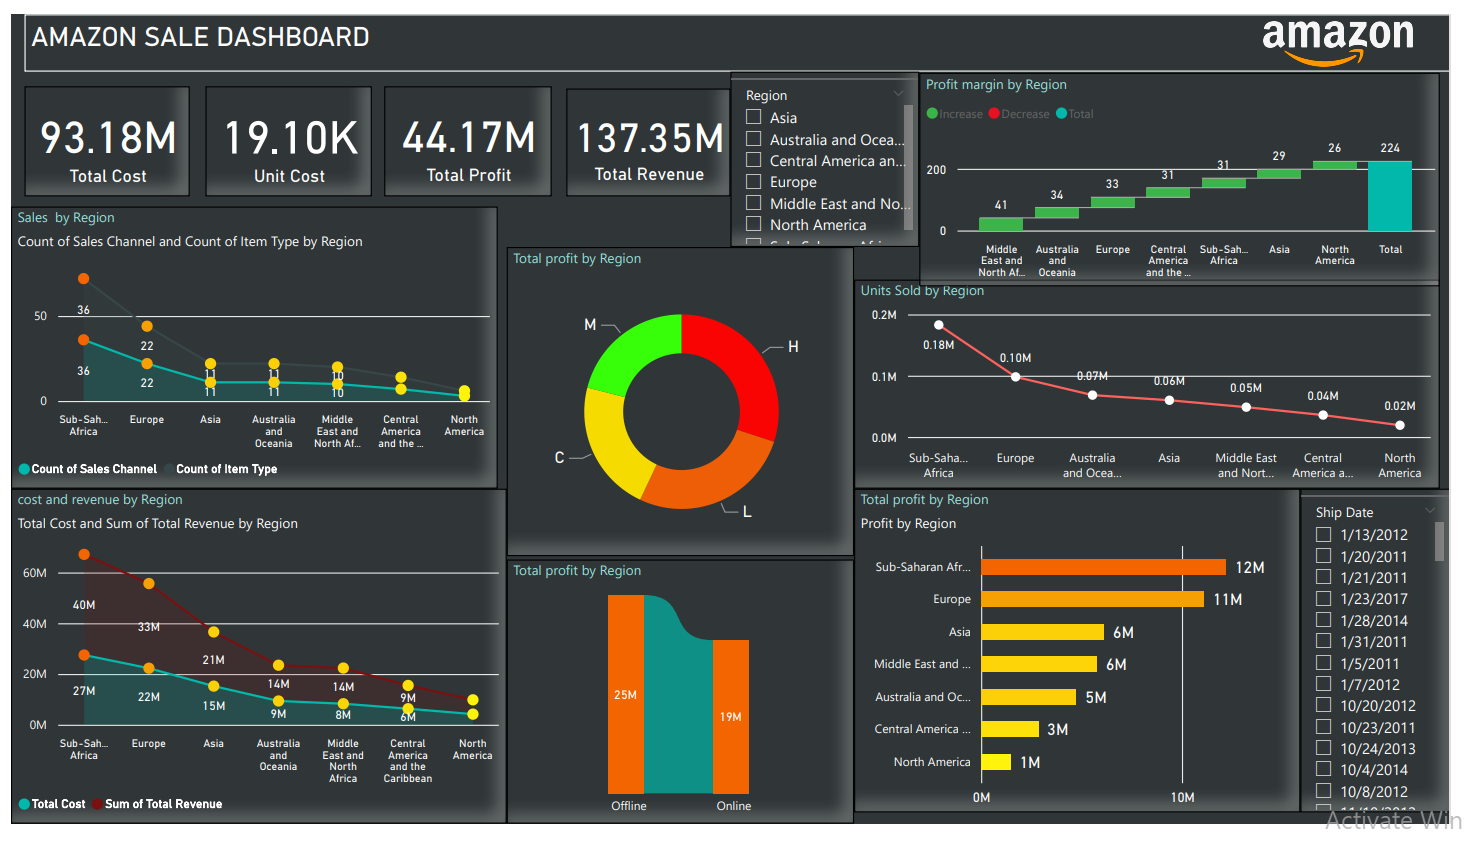

Layout of this report page (visuals, bound fields, positions):
{"tool":"powerbi","page":{"name":"Page 1","canvas":[1280,720],"ordinal":0},"visuals":[{"type":"textbox","box":[11.9,0,1268.6,51.2],"z":0},{"type":"card","fields":{"Values":["Sum(Amazon Sales data - Amazon Sales data.Total Cost)"]},"box":[12.3,64.4,146.7,97.3],"z":1000},{"type":"card","fields":{"Values":["Sum(Amazon Sales data - Amazon Sales data.Total Profit)"]},"box":[331.8,64.4,149.4,97.3],"z":2000},{"type":"card","fields":{"Values":["Sum(Amazon Sales data - Amazon Sales data.Unit Cost)"]},"box":[172.8,64.4,148.1,97.3],"z":3000},{"type":"card","fields":{"Values":["Sum(Amazon Sales data - Amazon Sales data.Total Revenue)"]},"box":[493.6,65.8,146.7,96],"z":4000},{"type":"image","box":[1088.6,1.4,182.3,49.4],"z":5000},{"type":"barChart","title":"Total profit by Region","fields":{"Category":["Amazon Sales data - Amazon Sales data.Region"],"Y":["Sum(Amazon Sales data - Amazon Sales data.Total Profit)"]},"box":[749.8,422.5,397.5,288],"z":6000},{"type":"lineChart","title":"Units Sold by Region","fields":{"Category":["Amazon Sales data - Amazon Sales data.Region"],"Y":["Sum(Amazon Sales data - Amazon Sales data.Units Sold)"]},"box":[749.8,235.6,521.3,186.8],"z":7000},{"type":"donutChart","title":"Total profit by Region","fields":{"Category":["Amazon Sales data - Amazon Sales data.Order Priority","Amazon Sales data - Amazon Sales data.Region"],"Y":["CountNonNull(Amazon Sales data - Amazon Sales data.Sales Channel)"]},"box":[441.4,207.4,308.7,275],"z":8000},{"type":"stackedAreaChart","title":"cost and revenue by Region","fields":{"Category":["Amazon Sales data - Amazon Sales data.Region"],"Y":["Sum(Amazon Sales data - Amazon Sales data.Total Cost)","Sum(Amazon Sales data - Amazon Sales data.Total Revenue)"]},"box":[0,422.3,441.5,297.5],"z":9000},{"type":"ribbonChart","title":"Total profit by Region","fields":{"Y":["Sum(Amazon Sales data - Amazon Sales data.Total Profit)"],"Category":["Amazon Sales data - Amazon Sales data.Sales Channel"]},"box":[441.5,485.4,308.5,234.4],"z":10000},{"type":"slicer","fields":{"Values":["Amazon Sales data - Amazon Sales data.Ship Date"]},"box":[1147.2,422.5,133.3,288],"z":11000},{"type":"slicer","fields":{"Values":["Amazon Sales data - Amazon Sales data.Region"]},"box":[640.3,50.7,167.3,156.3],"z":12000},{"type":"waterfallChart","title":"Profit margin by Region","fields":{"Category":["Amazon Sales data - Amazon Sales data.Region"],"Y":["Amazon Sales data - Amazon Sales data.Profit Margin"]},"box":[808.1,52.4,462.9,189.2],"z":13000},{"type":"stackedAreaChart","title":"Sales  by Region","fields":{"Category":["Amazon Sales data - Amazon Sales data.Region"],"Y":["CountNonNull(Amazon Sales data - Amazon Sales data.Sales Channel)","CountNonNull(Amazon Sales data - Amazon Sales data.Item Type)"]},"box":[0,171.4,432.7,250.5],"z":14000}]}

Visuals, with their boxes in screenshot pixels (x1, y1, x2, y2), scaled from the page's 1280x720 canvas onto the 1464x841 screenshot:
textbox: (14,0,1463,60)
card - Sum(Amazon Sales data - Amazon Sales data.Total Cost): (14,75,182,189)
card - Sum(Amazon Sales data - Amazon Sales data.Total Profit): (379,75,550,189)
card - Sum(Amazon Sales data - Amazon Sales data.Unit Cost): (198,75,367,189)
card - Sum(Amazon Sales data - Amazon Sales data.Total Revenue): (565,77,732,189)
image: (1245,2,1454,59)
"Total profit by Region" barChart: (858,494,1312,830)
"Units Sold by Region" lineChart: (858,275,1454,493)
"Total profit by Region" donutChart: (505,242,858,563)
"cost and revenue by Region" stackedAreaChart: (0,493,505,840)
"Total profit by Region" ribbonChart: (505,567,858,840)
slicer - Amazon Sales data - Amazon Sales data.Ship Date: (1312,494,1463,830)
slicer - Amazon Sales data - Amazon Sales data.Region: (732,59,924,242)
"Profit margin by Region" waterfallChart: (924,61,1454,282)
"Sales  by Region" stackedAreaChart: (0,200,495,493)
